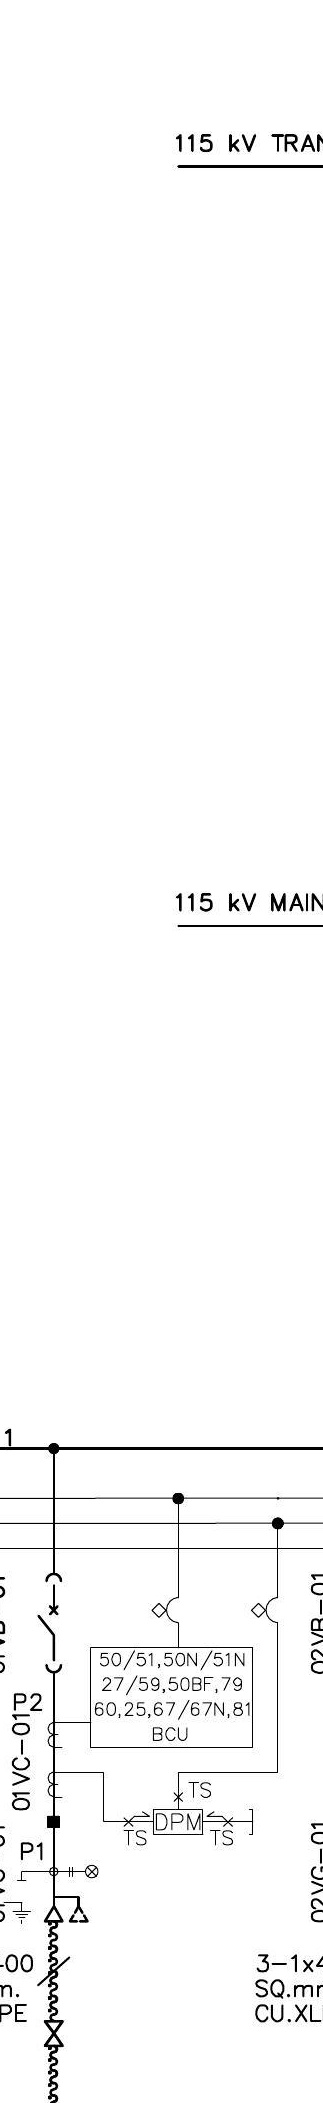22_breaker: (36, 1572, 63, 1675)
22_gs: (3, 1879, 32, 1925)
22_ll: (68, 1864, 99, 1879)
DPM: (151, 1808, 205, 1836)
terminator_splicing_kits: (43, 2020, 64, 2048)
terminator_w_future: (43, 1894, 90, 1923)
